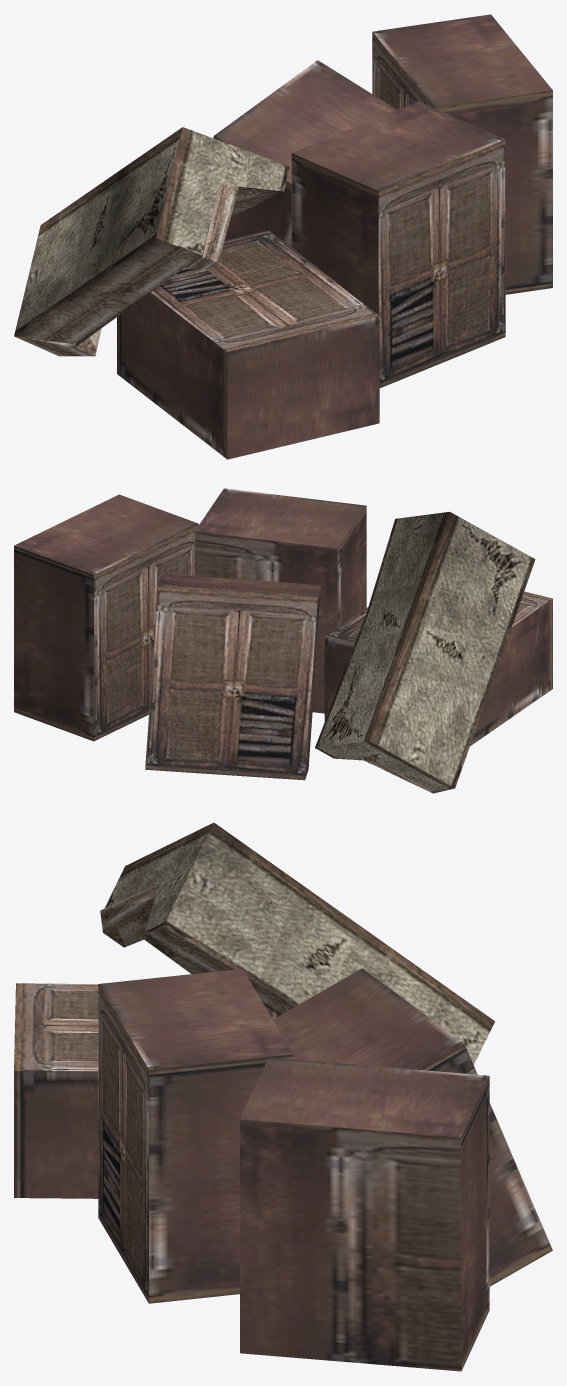
The model's file is rmcabnts.glb.
3 renders of one model, top to bottom at view 1: azimuth 30°, elevation 25°; view 2: azimuth 150°, elevation 25°; view 3: azimuth 270°, elevation 25°, orthographic. The views are drawn at different scales.
Parts seen in each view (by area): view 1: _rmcabnts; view 2: _rmcabnts; view 3: _rmcabnts.
Part boxes in pixels (left/top/right/bottom): _rmcabnts: left=14, top=14, right=552, bottom=459; _rmcabnts: left=14, top=488, right=552, bottom=793; _rmcabnts: left=14, top=822, right=552, bottom=1371.
Bounding box in the file's own units: 7.59 × 4.34 × 5.98.
Materials: 1 (1 with a texture image).
